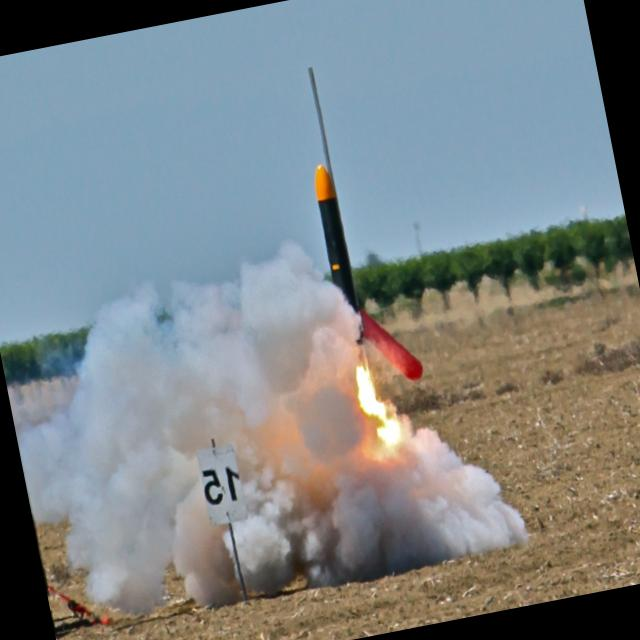rocket: (287, 160, 398, 485)
